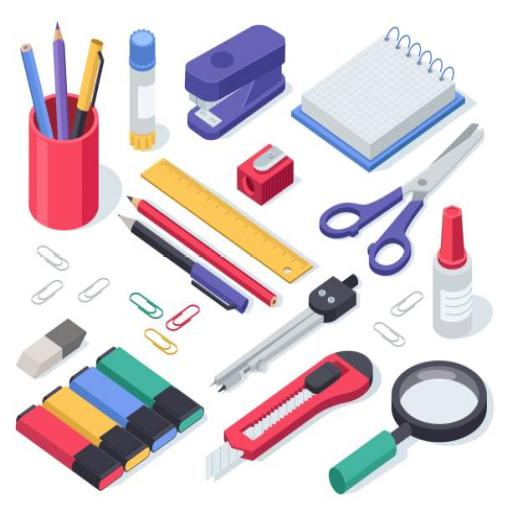gunting: (316, 121, 490, 281)
pena: (112, 214, 253, 315), (73, 36, 108, 140)
penggaris: (138, 153, 315, 284)
penghapus: (6, 317, 89, 381)
pensil: (124, 193, 285, 311), (17, 40, 52, 144), (50, 19, 72, 147)
pisau: (203, 346, 379, 490)
spidol: (14, 341, 204, 512)
